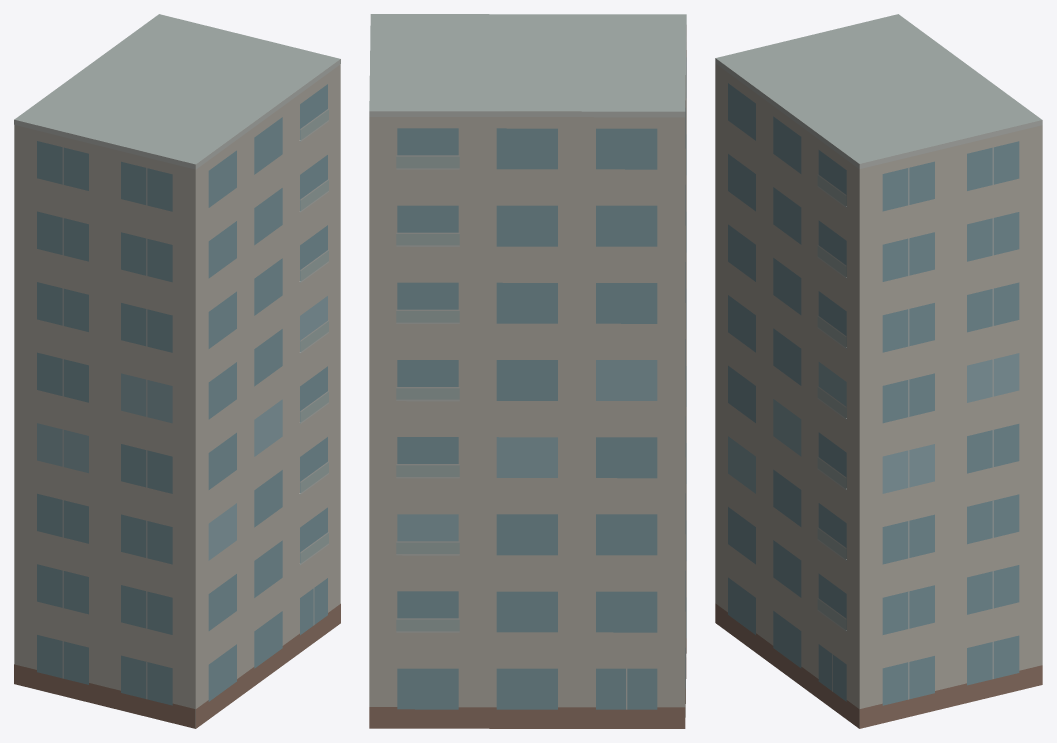
The model's file is survey-upis-32672538.glb.
The picture shows the model from 3 angles, left to right: view 1: azimuth 30°, elevation 25°; view 2: azimuth 150°, elevation 25°; view 3: azimuth 270°, elevation 25°; orthographic projection. The views are drawn at different scales.
Visible parts, largest first — view 1: survey-upis-32672538.tmp; view 2: survey-upis-32672538.tmp; view 3: survey-upis-32672538.tmp.
Part boxes in pixels (<box>): survey-upis-32672538.tmp: <box>14,14,340,728</box>; survey-upis-32672538.tmp: <box>369,14,686,728</box>; survey-upis-32672538.tmp: <box>715,14,1042,728</box>.
Size of the model in its own units: 15.1 by 26.5 by 13.91.
